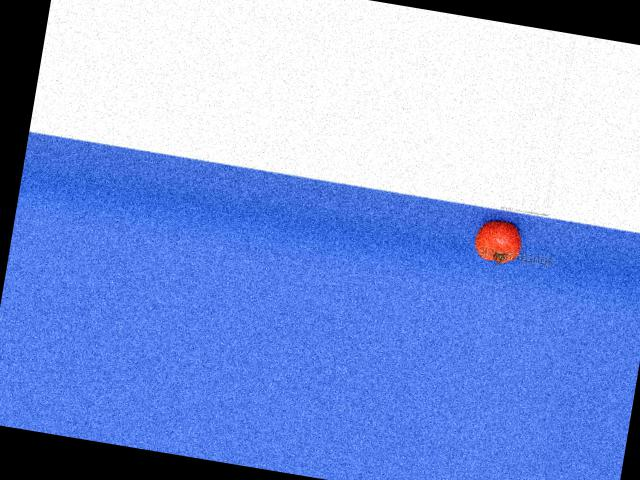tomato: (471, 217, 523, 265)
